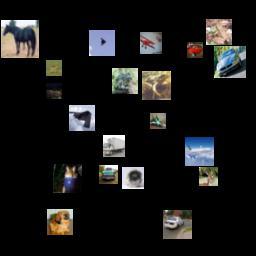airplane: (185, 137, 214, 166), (69, 105, 95, 131), (89, 30, 115, 56), (140, 32, 162, 54), (150, 113, 166, 129)
automobile: (214, 46, 246, 78), (163, 210, 192, 239), (99, 165, 118, 184), (187, 42, 203, 58)
deer: (199, 167, 218, 186), (46, 60, 62, 76)
dog: (47, 209, 73, 235), (122, 167, 144, 189)
frog: (53, 164, 82, 193), (142, 71, 171, 100), (206, 19, 232, 45), (112, 68, 138, 94)
ship: (46, 83, 62, 99)
truck: (103, 135, 125, 157)
